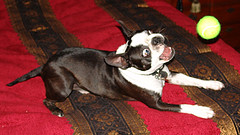tennis ball: (194, 14, 222, 42)
